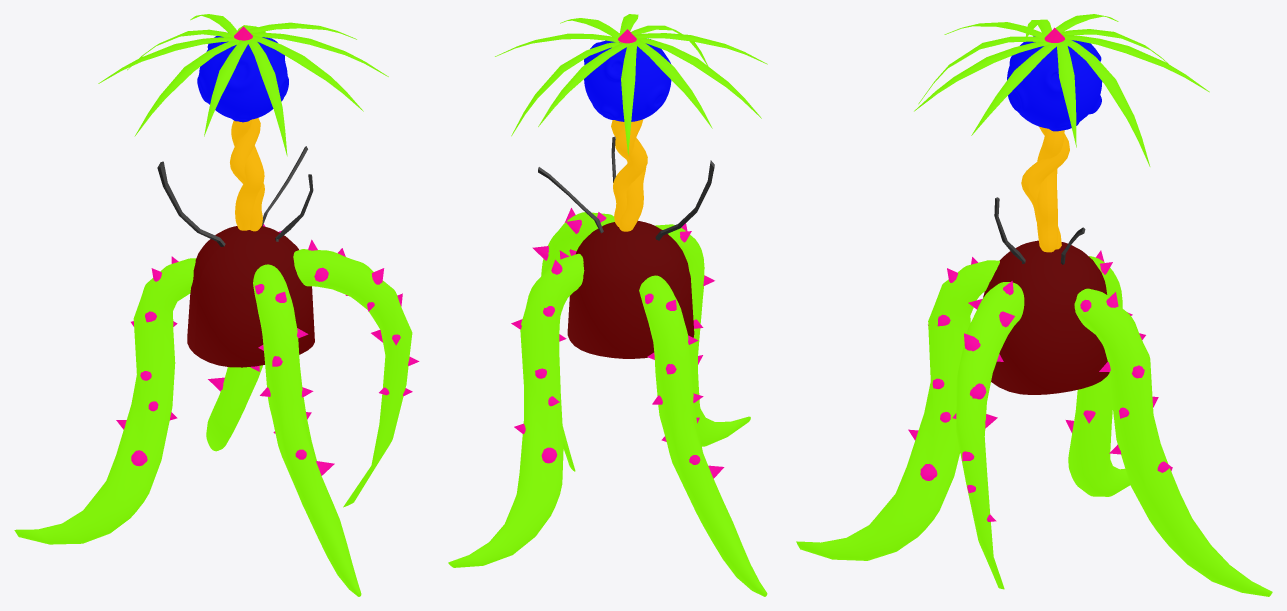
Rendered from plant_03_universsun_state03_lange.gltf.
3 renders of one model, left to right at view 1: azimuth 30°, elevation 25°; view 2: azimuth 150°, elevation 25°; view 3: azimuth 270°, elevation 25°, orthographic. The views are drawn at different scales.
Parts seen in each view (by area): view 1: Cylinder.003, NurbsPath.002; view 2: Cylinder.003, NurbsPath.002; view 3: Cylinder.003, NurbsPath.002.
Boxes of the visible parts, x1,y1,x2,y2 form: Cylinder.003: (14, 224, 419, 596); NurbsPath.002: (98, 14, 388, 367); Cylinder.003: (448, 208, 767, 596); NurbsPath.002: (495, 14, 767, 358); Cylinder.003: (796, 250, 1272, 596); NurbsPath.002: (914, 14, 1209, 394).
Size of the model in its own units: 6.44 by 9.74 by 7.74.
